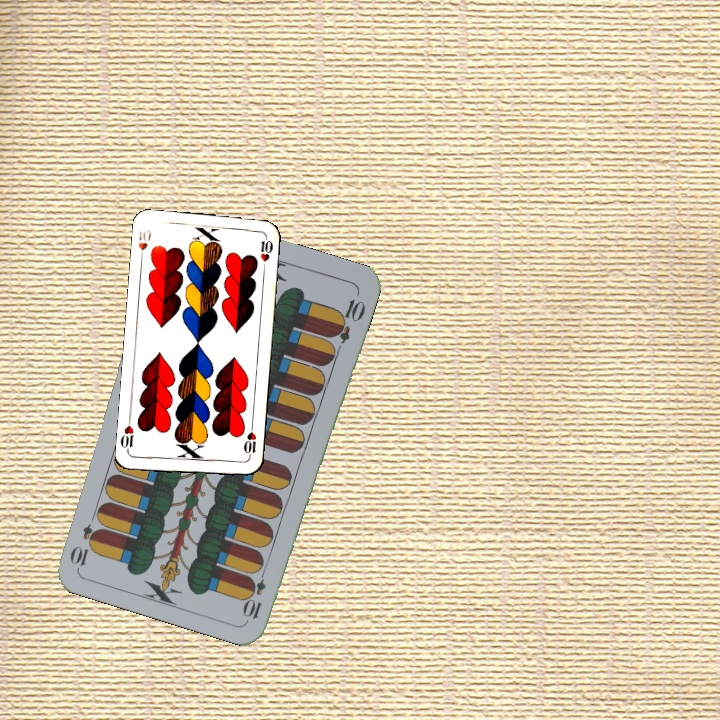E10: (242, 563, 269, 622)
H10: (134, 225, 154, 265), (240, 421, 259, 462)
